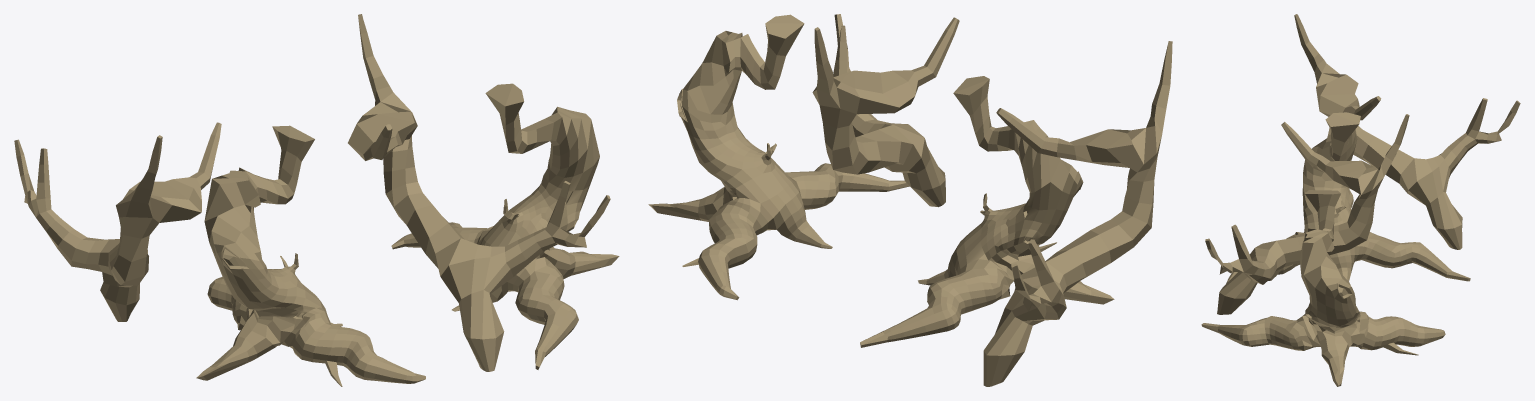
Rendered from Stumps.fbx.
The picture shows the model from 3 angles, left to right: view 1: azimuth 30°, elevation 25°; view 2: azimuth 150°, elevation 25°; view 3: azimuth 270°, elevation 25°; orthographic projection. The views are drawn at different scales.
Parts seen in each view (by area): view 1: Tree3:Zbrush_Swamp_Tree:Group60456, RootsAndTwigs:Tree3:Zbrush_Swamp_Tree:Group60456, Group60456, Group60458; view 2: Group60456, Tree3:Zbrush_Swamp_Tree:Group60456, Group60458, RootsAndTwigs:Tree3:Zbrush_Swamp_Tree:Group60456; view 3: Group60456, Group60458, RootsAndTwigs:Tree3:Zbrush_Swamp_Tree:Group60456, Tree3:Zbrush_Swamp_Tree:Group60456.
Part boxes in pixels (<box>): Tree3:Zbrush_Swamp_Tree:Group60456: <box>196,125,425,386</box>; RootsAndTwigs:Tree3:Zbrush_Swamp_Tree:Group60456: <box>348,14,610,371</box>; Group60456: <box>391,83,619,369</box>; Group60458: <box>14,122,221,321</box>; Group60456: <box>648,14,909,300</box>; Tree3:Zbrush_Swamp_Tree:Group60456: <box>860,76,1114,347</box>; Group60458: <box>983,41,1172,386</box>; RootsAndTwigs:Tree3:Zbrush_Swamp_Tree:Group60456: <box>812,14,959,207</box>; Group60456: <box>1201,190,1445,386</box>; Group60458: <box>1294,14,1520,249</box>; RootsAndTwigs:Tree3:Zbrush_Swamp_Tree:Group60456: <box>1205,114,1409,314</box>; Tree3:Zbrush_Swamp_Tree:Group60456: <box>1226,112,1470,283</box>.
Size of the model in its own units: 77.64 by 41.15 by 57.17.
